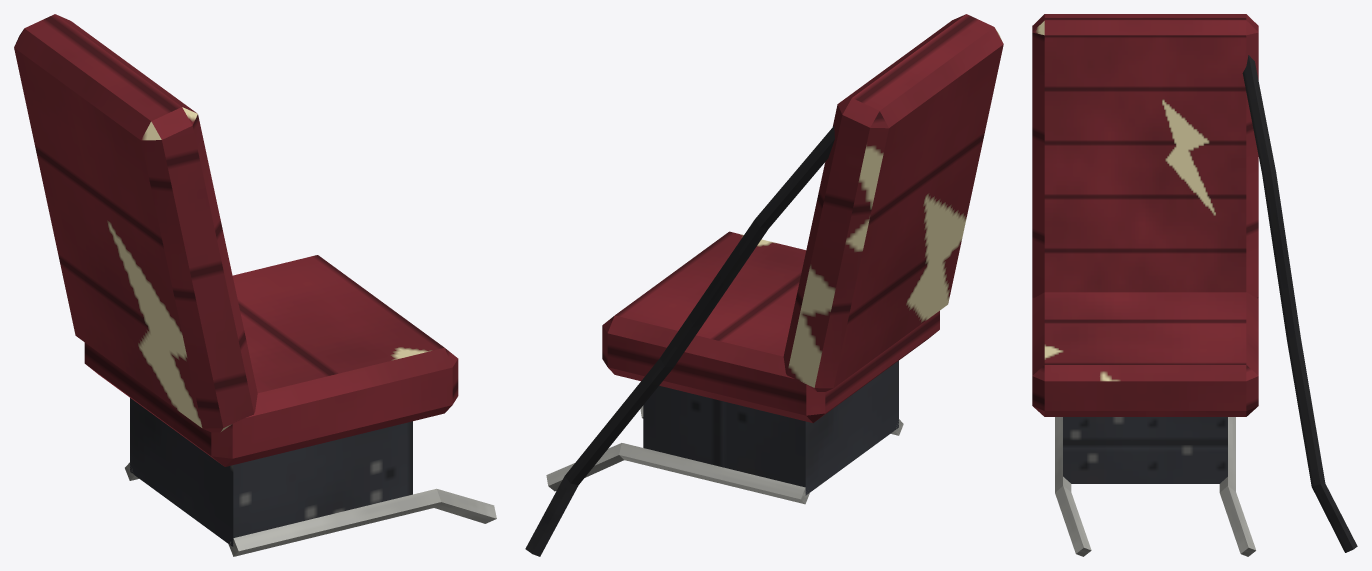
The model's file is Seat.fbx.
3 renders of one model, left to right at view 1: azimuth 30°, elevation 25°; view 2: azimuth 150°, elevation 25°; view 3: azimuth 270°, elevation 25°, orthographic. The views are drawn at different scales.
Visible parts, largest first — view 1: Seat; view 2: Seat; view 3: Seat.
Part boxes in pixels (x1,y1,x2,y2): Seat: [14, 14, 496, 556]; Seat: [525, 14, 1003, 556]; Seat: [1032, 14, 1357, 556].
Bounding box in the file's own units: 0.8423 × 1.13 × 0.7902.
